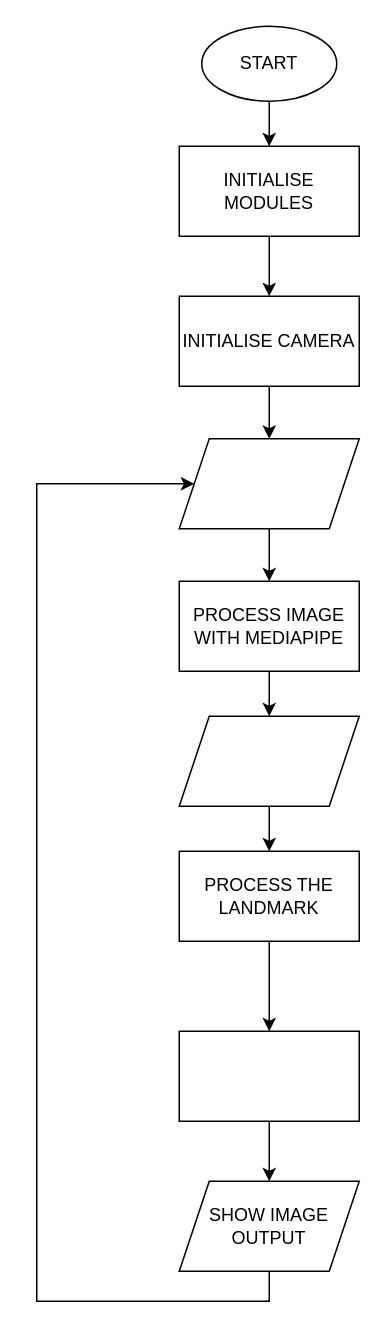
Image size: 386x1340. Some labels were removed from this diagram. The shapes that lost their labels are listed below. From the top down, each one's centre as x and y in pixels, then its label:
At (268,483): "FETCH CAMERA IMAGE".
At (268,760): "GET HAND LANDMARKS".
At (268,1075): "GET GESTURE PREDICTION".
